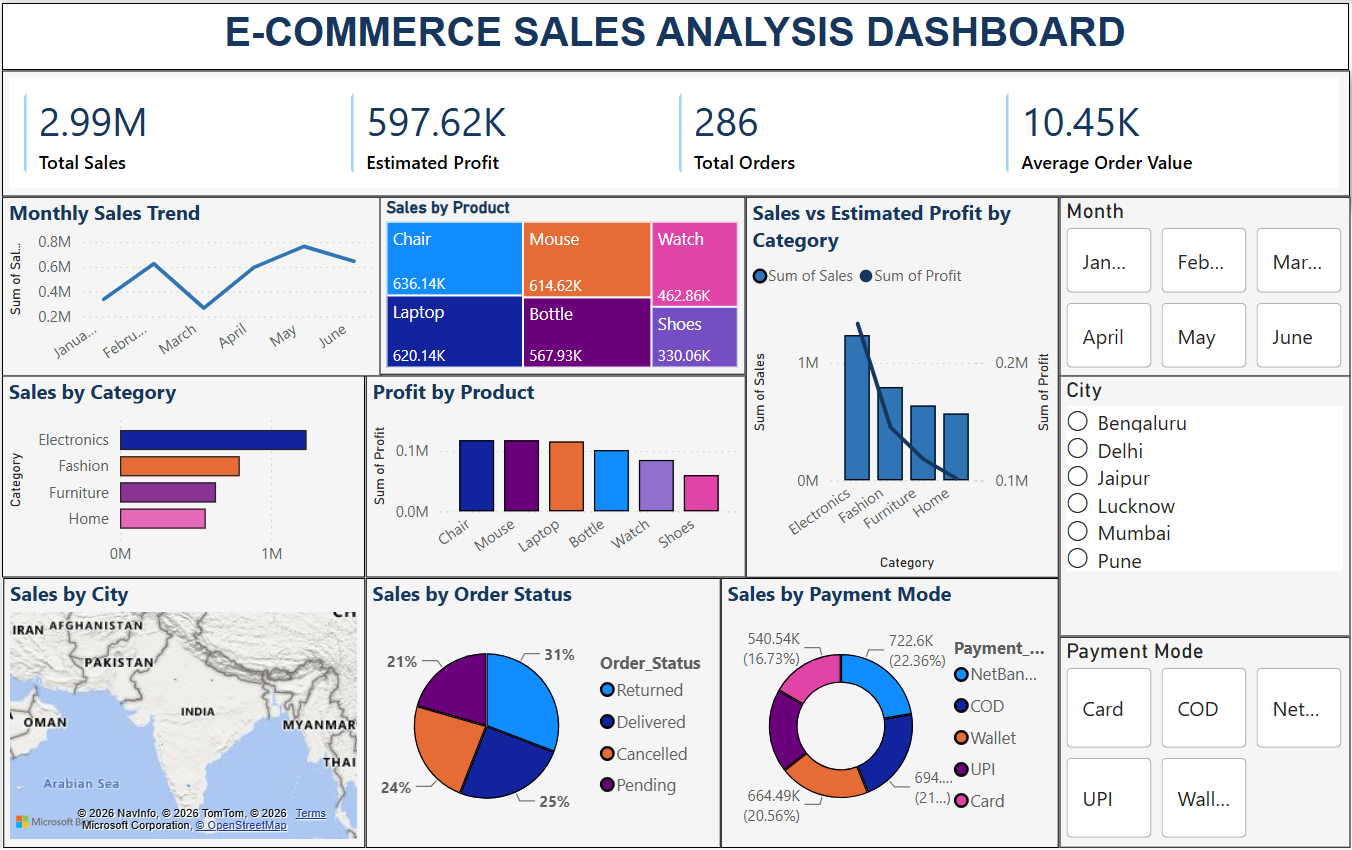

The dashboard page shown, as its layout file describes it:
{"tool":"powerbi","page":{"name":"Page 1","canvas":[1280,720],"ordinal":0},"visuals":[{"type":"cardVisual","fields":{"Data":["Dax_Measures.Total_Sales","Dax_Measures.Total_Profit","Dax_Measures.Total_Orders","Dax_Measures.Average_Order_Value"]},"box":[0,54,1079,101],"z":0},{"type":"textbox","box":[0,0,1078,54],"z":1000},{"type":"lineChart","title":"Monthly Sales Trend","fields":{"Category":["Ecom_orders.Month"],"Y":["Sum(Ecom_orders.Sales)"]},"box":[0,155,304,144],"z":2000},{"type":"barChart","title":"Sales by Category","fields":{"Category":["Ecom_orders.Category"],"Y":["Sum(Ecom_orders.Sales)"]},"box":[0,298,291,162],"z":3000},{"type":"columnChart","title":"Profit by Product","fields":{"Y":["Sum(Ecom_orders.Profit)"],"Category":["Ecom_orders.Product"]},"box":[291,298,304,162],"z":4000},{"type":"filledMap","title":"Sales by City","fields":{"Category":["Ecom_orders.City"]},"box":[1,460,290,216],"z":5000},{"type":"donutChart","title":"Sales by Payment Mode","fields":{"Category":["Ecom_orders.Payment_Mode"],"Y":["Sum(Ecom_orders.Sales)"]},"box":[575,460,271,216],"z":6000},{"type":"pieChart","title":"Sales by Order Status","fields":{"Category":["Ecom_orders.Order_Status"],"Y":["Sum(Ecom_orders.Sales)"]},"box":[291,460,284,216],"z":7000},{"type":"advancedSlicerVisual","fields":{"Values":["Ecom_orders.Month"]},"box":[846,155,233,144],"z":8000},{"type":"listSlicer","fields":{"Values":["Ecom_orders.City"]},"box":[846,298,233,209],"z":9000},{"type":"advancedSlicerVisual","title":"Payment Mode","fields":{"Values":["Ecom_orders.Payment_Mode"]},"box":[846,507,233,169],"z":10000},{"type":"lineClusteredColumnComboChart","title":"Sales vs Estimated Profit by Category","fields":{"Category":["Ecom_orders.Category"],"Y":["Sum(Ecom_orders.Sales)"],"Y2":["Sum(Ecom_orders.Profit)"]},"box":[595,155,251,305],"z":11000},{"type":"treemap","title":"Sales by Product","fields":{"Group":["Ecom_orders.Product"],"Values":["Sum(Ecom_orders.Sales)"]},"box":[302,155,293,143],"z":12000}]}

Visuals, with their boxes on the page's 1280x720 design canvas (x1, y1, x2, y2). These are canvas units, not pixel positions in the 1352x850 screenshot, which may show the page scaled, cropped or inside an application window:
cardVisual - Dax_Measures.Total_Sales x Dax_Measures.Total_Profit: [x1=0, y1=54, x2=1079, y2=155]
textbox: [x1=0, y1=0, x2=1078, y2=54]
"Monthly Sales Trend" lineChart: [x1=0, y1=155, x2=304, y2=299]
"Sales by Category" barChart: [x1=0, y1=298, x2=291, y2=460]
"Profit by Product" columnChart: [x1=291, y1=298, x2=595, y2=460]
"Sales by City" filledMap: [x1=1, y1=460, x2=291, y2=676]
"Sales by Payment Mode" donutChart: [x1=575, y1=460, x2=846, y2=676]
"Sales by Order Status" pieChart: [x1=291, y1=460, x2=575, y2=676]
advancedSlicerVisual - Ecom_orders.Month: [x1=846, y1=155, x2=1079, y2=299]
listSlicer - Ecom_orders.City: [x1=846, y1=298, x2=1079, y2=507]
"Payment Mode" advancedSlicerVisual: [x1=846, y1=507, x2=1079, y2=676]
"Sales vs Estimated Profit by Category" lineClusteredColumnComboChart: [x1=595, y1=155, x2=846, y2=460]
"Sales by Product" treemap: [x1=302, y1=155, x2=595, y2=298]
